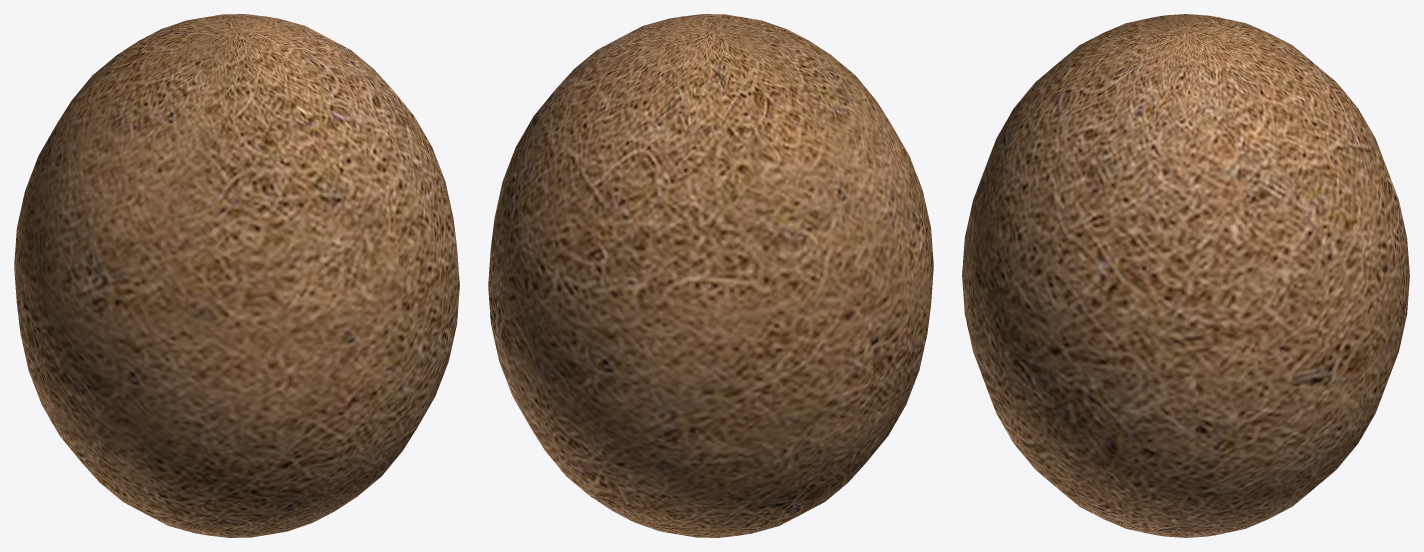
File: coconut.fbx
3 views of the same model, side by side, from view 1: azimuth 30°, elevation 25°; view 2: azimuth 150°, elevation 25°; view 3: azimuth 270°, elevation 25° (orthographic).
Parts seen in each view (by area): view 1: pSphere1; view 2: pSphere1; view 3: pSphere1.
Boxes of the visible parts, x1,y1,x2,y2 form: pSphere1: [14, 14, 459, 537]; pSphere1: [488, 14, 933, 537]; pSphere1: [962, 14, 1409, 537].
Bounding box in the file's own units: 0.1961 × 0.2364 × 0.1961.
Materials: 1 (1 with a texture image).
